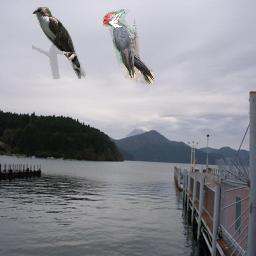Cuckoo: (32, 7, 86, 79)
Woodpecker: (103, 9, 154, 84)
